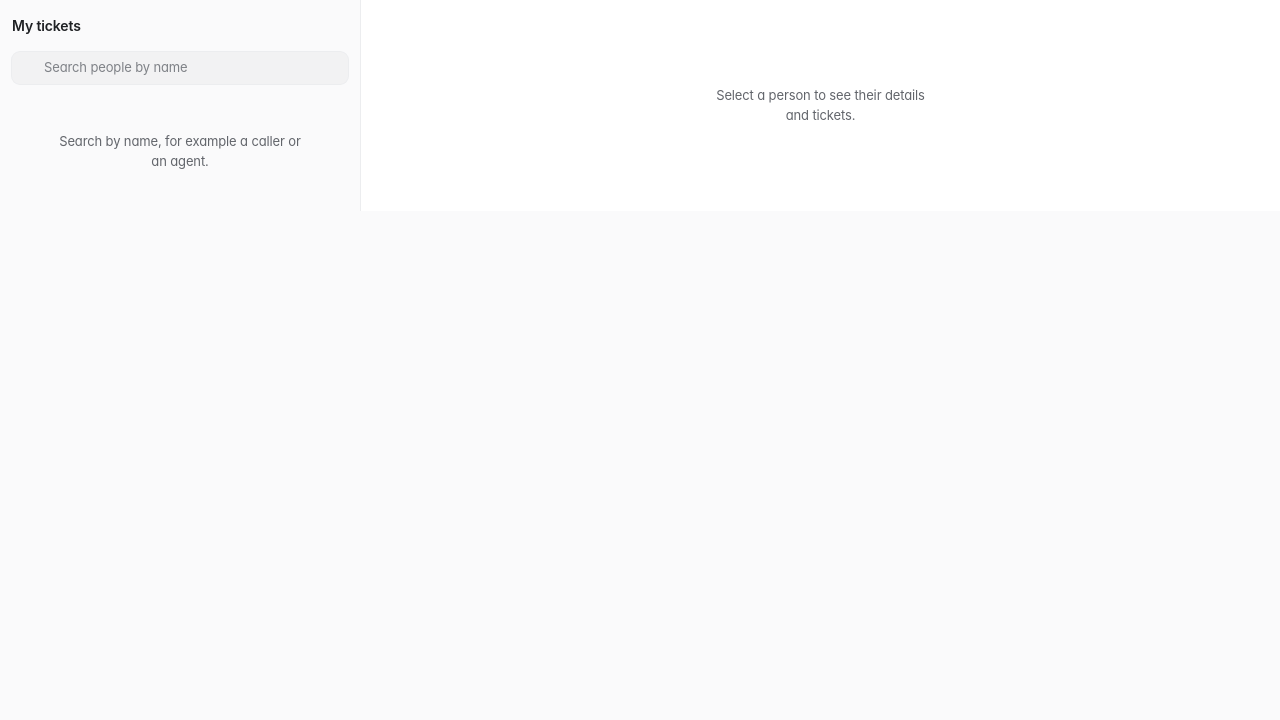
Test: PeopleScreen (section 13) › searches, opens a person and shows their info and tickets (PPL-2…14)
The image size is (1280, 720).
Later steps or results of the test are not shown.
In the search field labelled "Search people by name": (191, 68) [44, 58, 338, 78], type "demo"
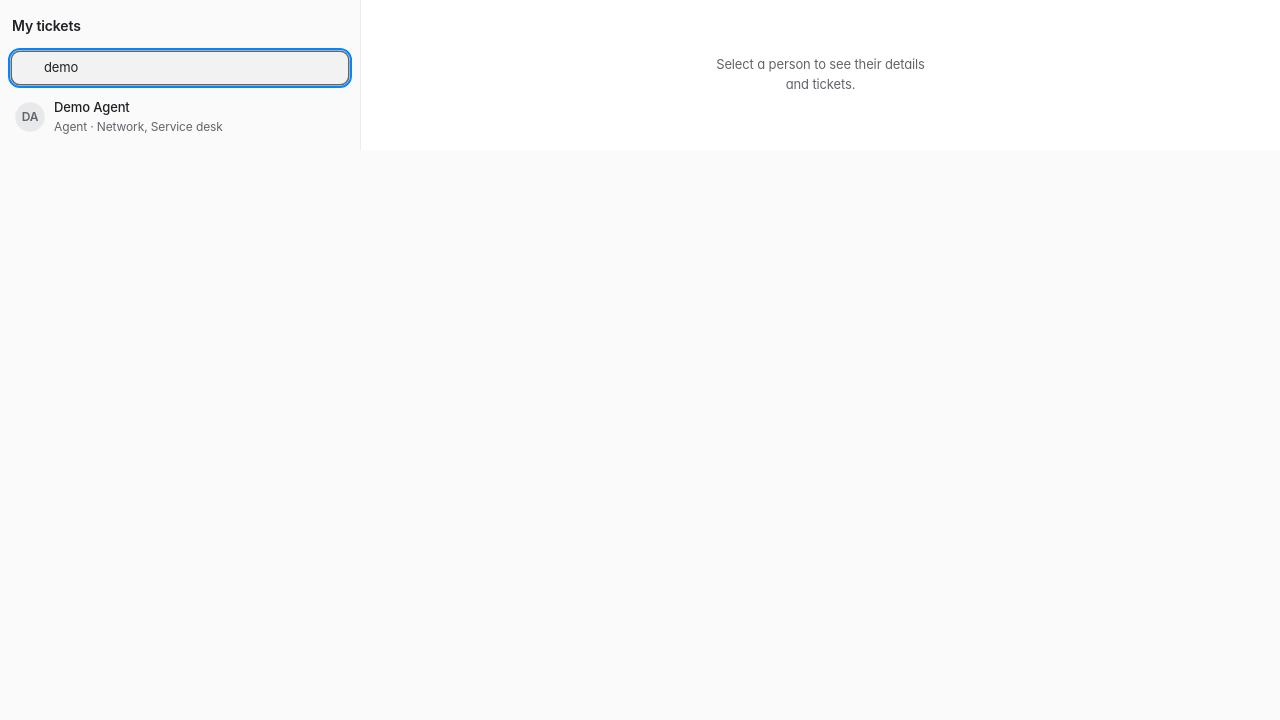
Click the text "Demo Agent": (92, 107) [54, 99, 130, 115]
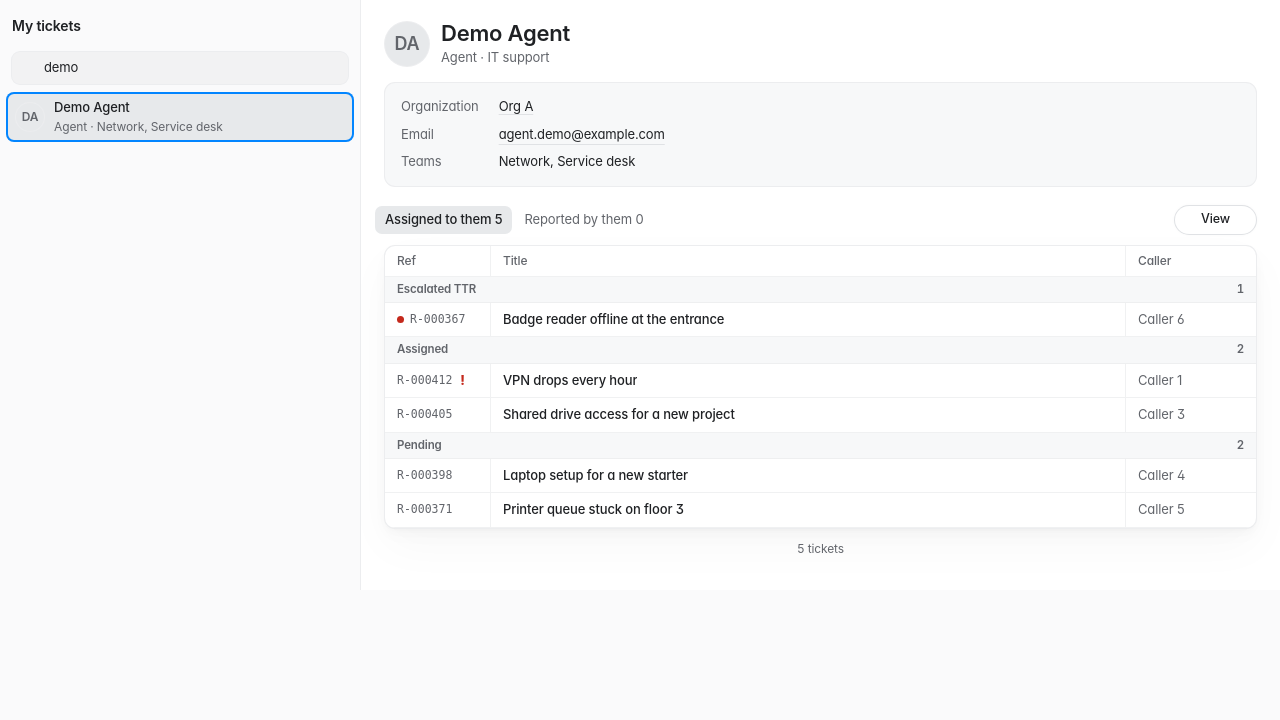
Check: the heading "Demo Agent" is shown, box [441, 20, 570, 48]
Check: the text "Agent · IT support" is shown, box [441, 48, 549, 64]
Check: the column headings read "Ref", "Title", "Caller", in this order, box [385, 246, 491, 276]; [491, 246, 1126, 276]; [1138, 252, 1171, 268]
